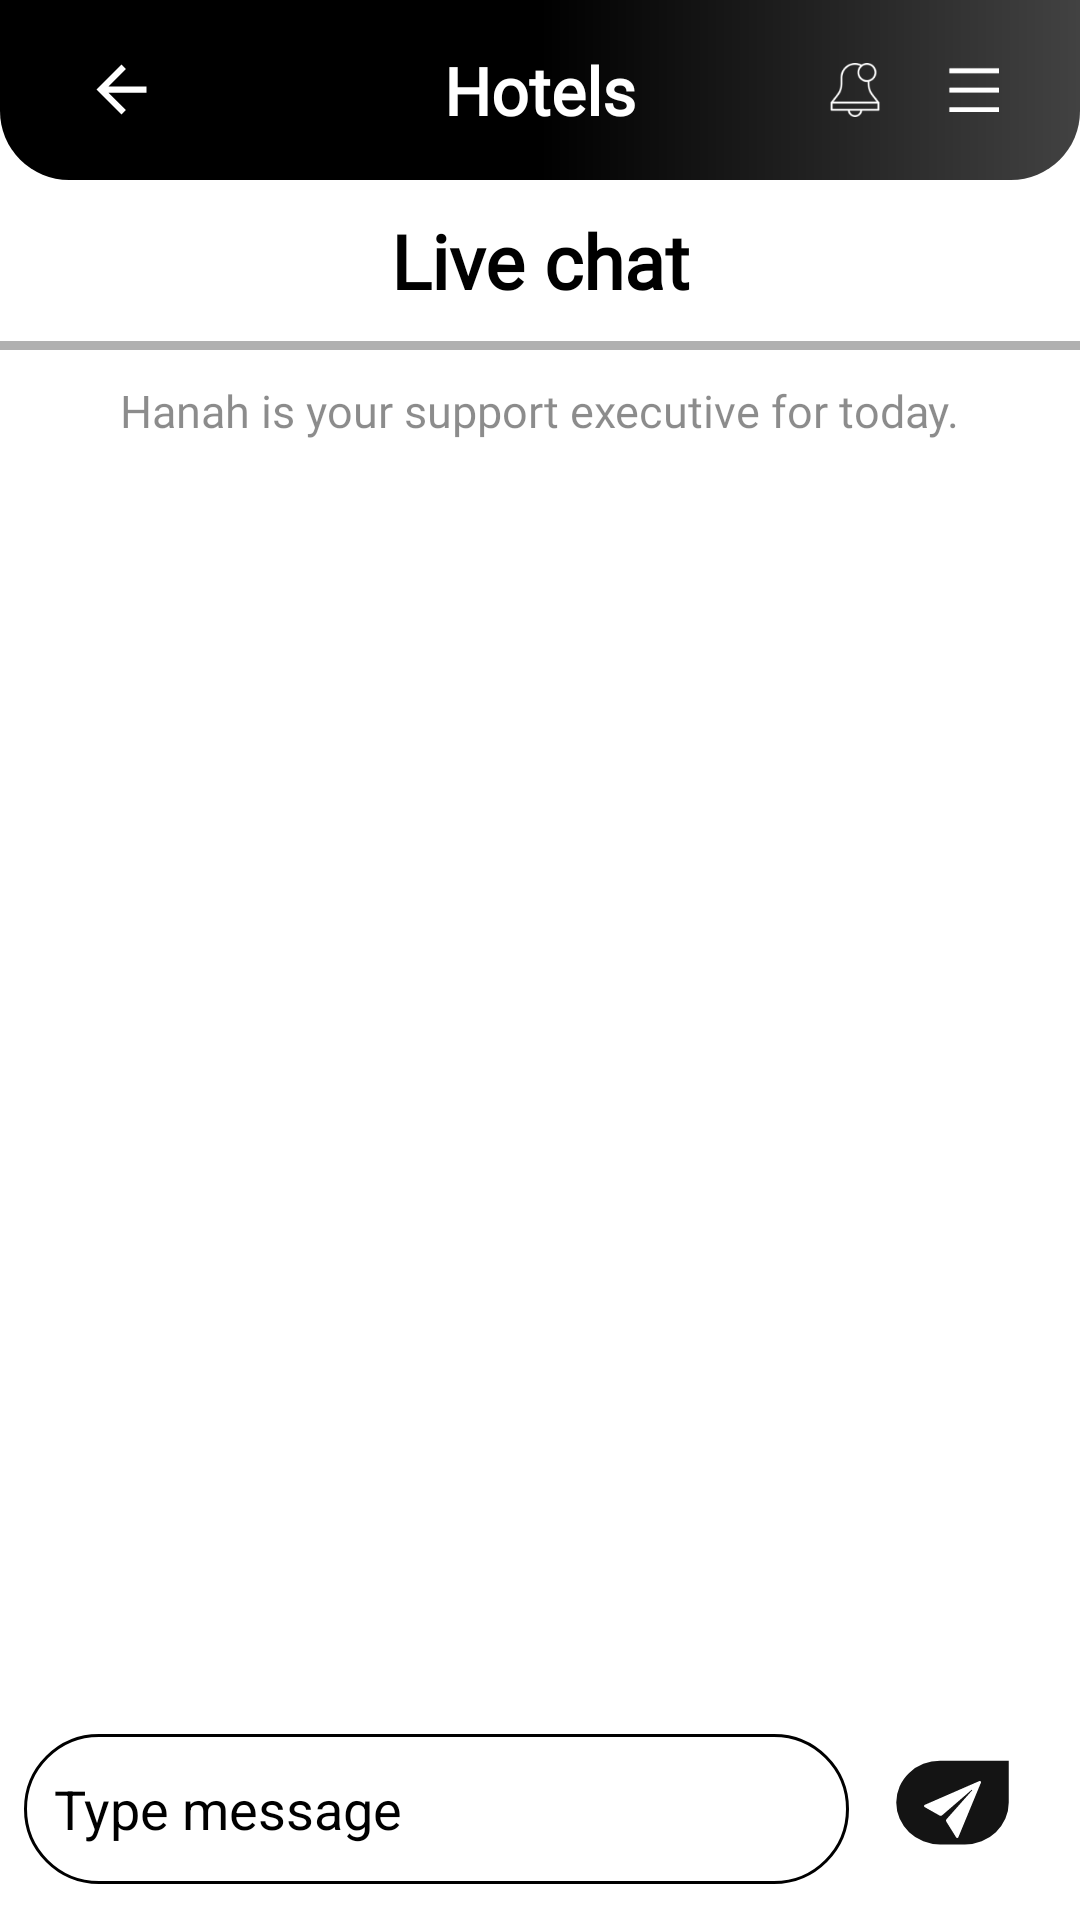

Where to tap for icons on this 1080 x 1920 app screen, as point (x, y):
arrow back: point (121, 89)
bars: point (974, 90)
ionic send: point (952, 1802)
